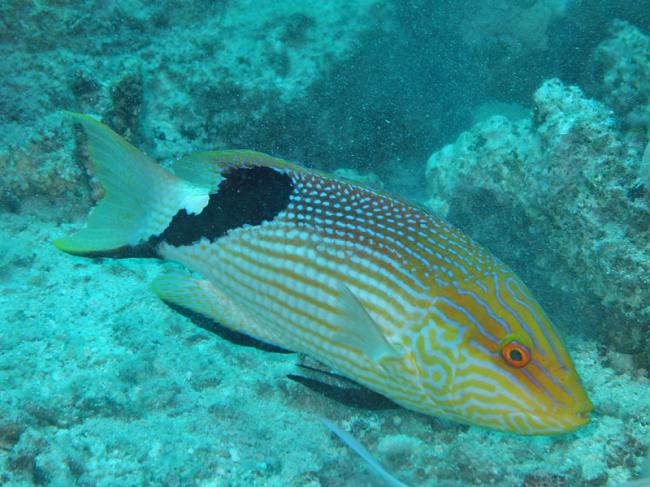fish: (54, 109, 593, 437)
